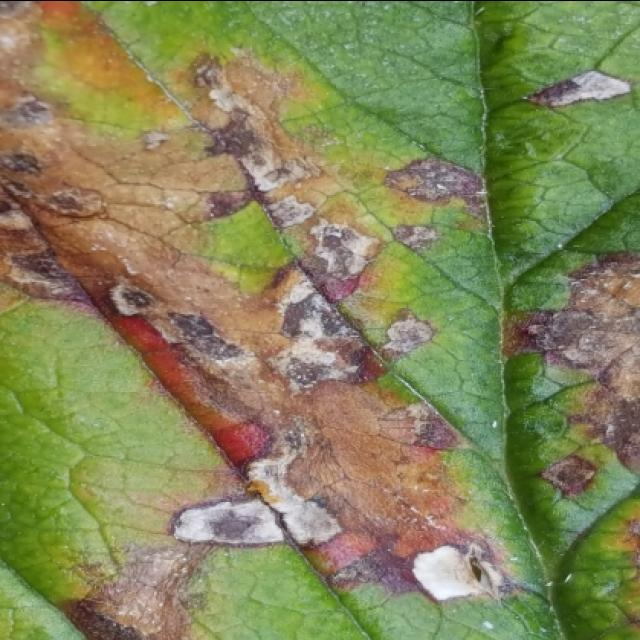Angular Leafspot: (0, 2, 638, 640)
